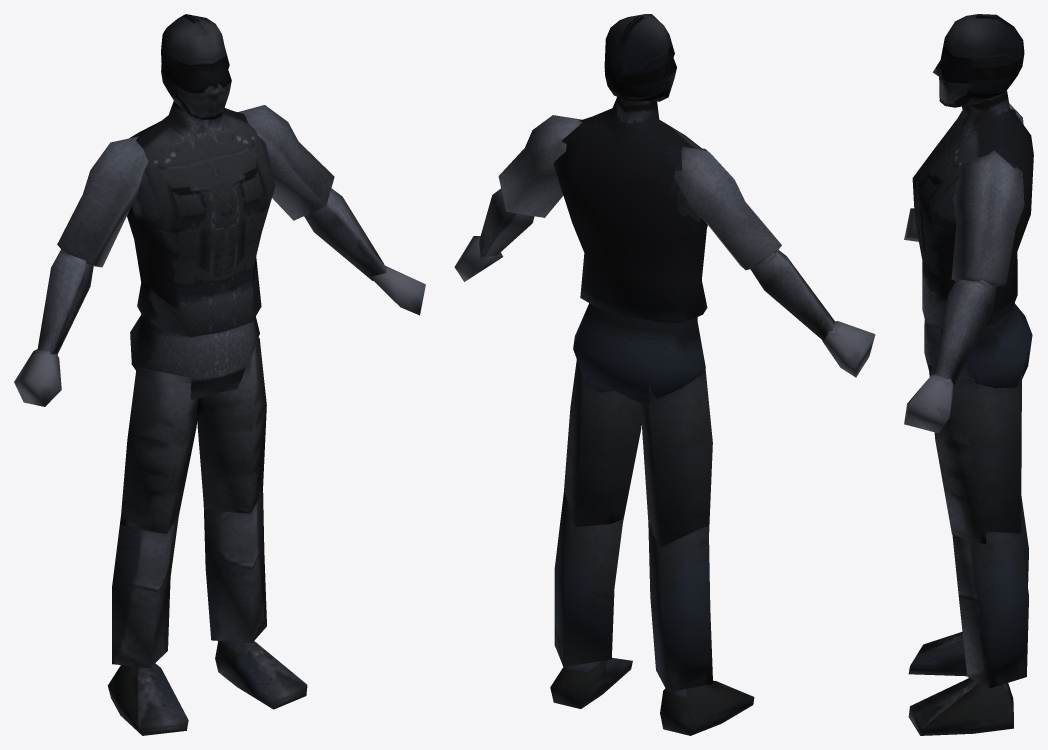
File: swato.fbx
The picture shows the model from 3 angles, left to right: view 1: azimuth 30°, elevation 25°; view 2: azimuth 150°, elevation 25°; view 3: azimuth 270°, elevation 25°; orthographic projection. The views are drawn at different scales.
Visible parts, largest first — view 1: body_Cube.001, leg.hi.r_Cube.001, leg.hi.l_Cube.001, leg.lo.r_Cube.001, leg.lo.l_Cube.001, hips_Cube.001, arm.hi.r_Cube.001, head_Cube.001, arm.hi.l_Cube.002, foot.r_Cube.001, foot.l_Cube.001, arm.lo.r_Cube.001 (+3 smaller); view 2: body_Cube.001, leg.hi.r_Cube.001, hips_Cube.001, leg.hi.l_Cube.001, leg.lo.r_Cube.001, leg.lo.l_Cube.001, arm.hi.r_Cube.001, head_Cube.001, arm.hi.l_Cube.002, foot.r_Cube.001, arm.lo.r_Cube.001, foot.l_Cube.001 (+3 smaller); view 3: body_Cube.001, leg.hi.l_Cube.001, leg.lo.l_Cube.001, arm.hi.l_Cube.002, head_Cube.001, foot.l_Cube.001, hips_Cube.001, arm.lo.l_Cube.001, hand.l_Cube.001, foot.r_Cube.001, leg.lo.r_Cube.001, hand.r_Cube.001.
Part boxes in pixels (x1,y1,x2,y2): body_Cube.001: (127, 101, 275, 336); leg.hi.r_Cube.001: (120, 367, 198, 534); leg.hi.l_Cube.001: (197, 337, 266, 513); leg.lo.r_Cube.001: (112, 516, 178, 667); leg.lo.l_Cube.001: (203, 490, 266, 642); hips_Cube.001: (130, 314, 259, 399); arm.hi.r_Cube.001: (57, 136, 148, 267); head_Cube.001: (161, 14, 231, 119); arm.hi.l_Cube.002: (238, 105, 334, 220); foot.r_Cube.001: (107, 663, 188, 735); foot.l_Cube.001: (215, 641, 307, 709); arm.lo.r_Cube.001: (37, 249, 93, 354); body_Cube.001: (553, 97, 707, 323); leg.hi.r_Cube.001: (640, 369, 712, 547); hips_Cube.001: (573, 303, 705, 407); leg.hi.l_Cube.001: (564, 359, 641, 526); leg.lo.r_Cube.001: (648, 522, 712, 692); leg.lo.l_Cube.001: (554, 491, 623, 666); arm.hi.r_Cube.001: (674, 146, 781, 269); head_Cube.001: (604, 14, 676, 101); arm.hi.l_Cube.002: (498, 115, 582, 217); foot.r_Cube.001: (660, 680, 754, 735); arm.lo.r_Cube.001: (750, 250, 834, 340); foot.l_Cube.001: (550, 658, 632, 708); body_Cube.001: (912, 90, 1033, 326); leg.hi.l_Cube.001: (928, 365, 1022, 544); leg.lo.l_Cube.001: (952, 532, 1028, 687); arm.hi.l_Cube.002: (951, 150, 1024, 286); head_Cube.001: (933, 14, 1024, 107); foot.l_Cube.001: (908, 678, 1013, 735); hips_Cube.001: (924, 303, 1032, 388); arm.lo.l_Cube.001: (931, 279, 996, 385); hand.l_Cube.001: (904, 373, 954, 433); foot.r_Cube.001: (908, 632, 966, 676); leg.lo.r_Cube.001: (1021, 496, 1028, 585); hand.r_Cube.001: (904, 208, 918, 241).
Size of the model in its own units: 170 by 48.33 by 279.
1 material, 1 textured.
